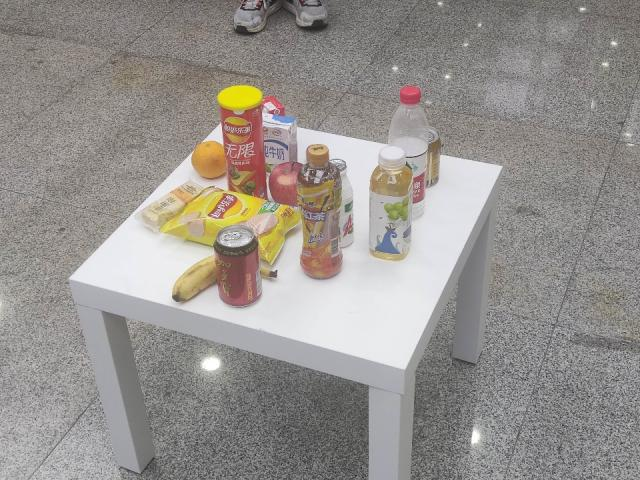Canned_drinks: (213, 226, 264, 308)
bottle: (386, 76, 432, 224)
cylinder: (210, 85, 272, 203)
drink_box: (260, 112, 300, 174)
